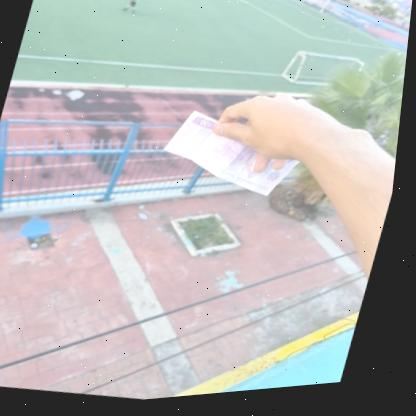one_hundred-back-vef: (154, 101, 317, 215)
